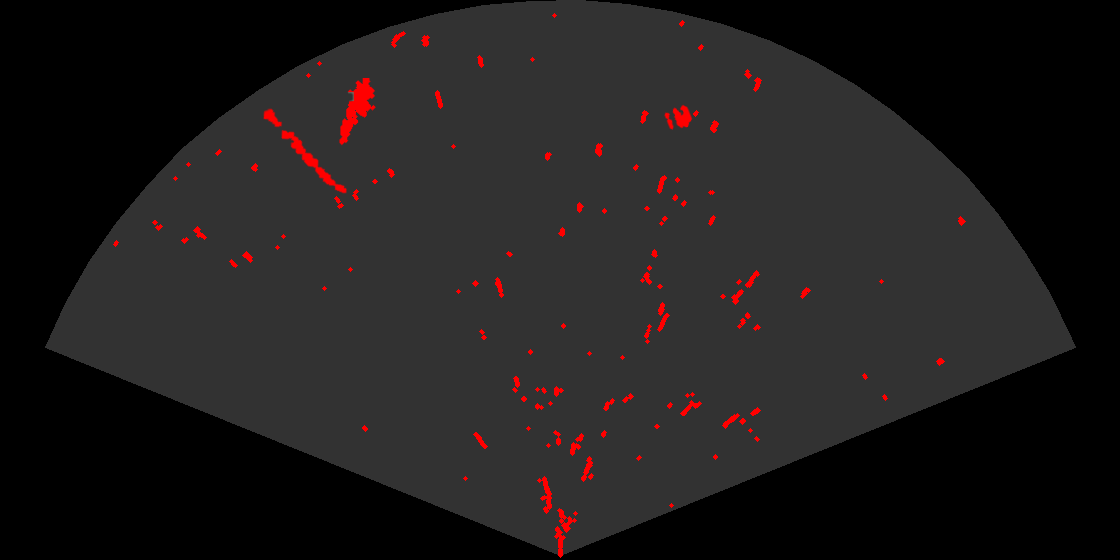ball: (663, 103, 694, 131)
chain: (262, 107, 349, 195)
frogman: (338, 78, 377, 146)
